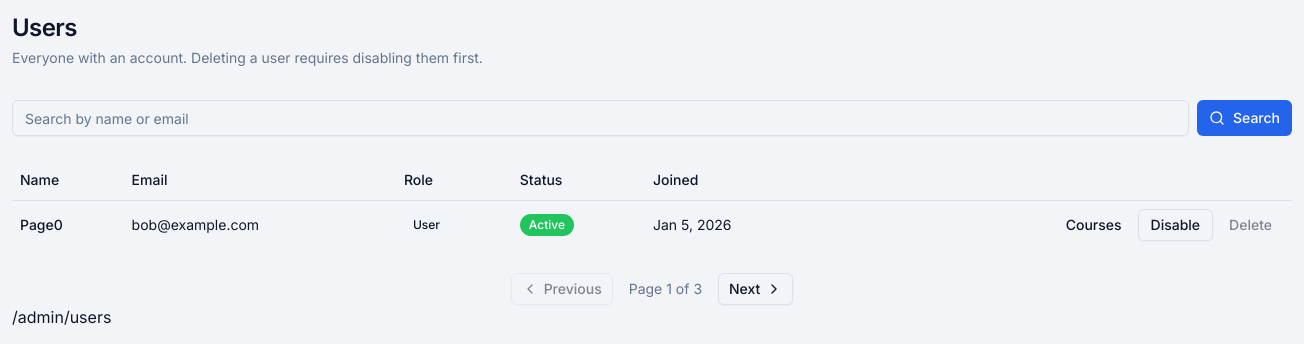
Test: the list › pages through a long list, keeping the page in the URL
Expected: the text "Page 1 of 3" is shown, x1=629 y1=278 x2=702 y2=298
What coordinates should you click on to do the following:
click the button "Next"
I would click on:
 (756, 288)
Its box is x1=718 y1=272 x2=793 y2=304.
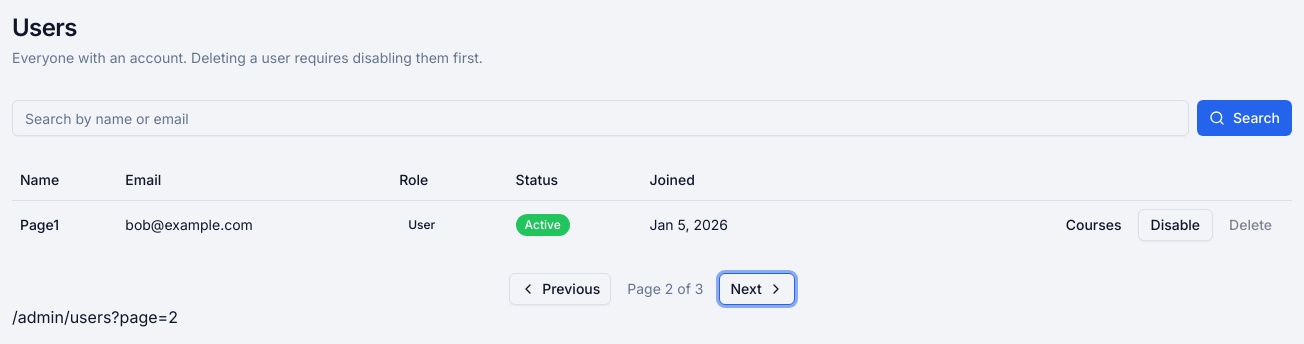
Expected: the text "Page 2 of 3" is shown, x1=627 y1=278 x2=704 y2=298
Expected: the text with test id "location" reads "/admin/users?page=2", x1=12 y1=306 x2=178 y2=326
